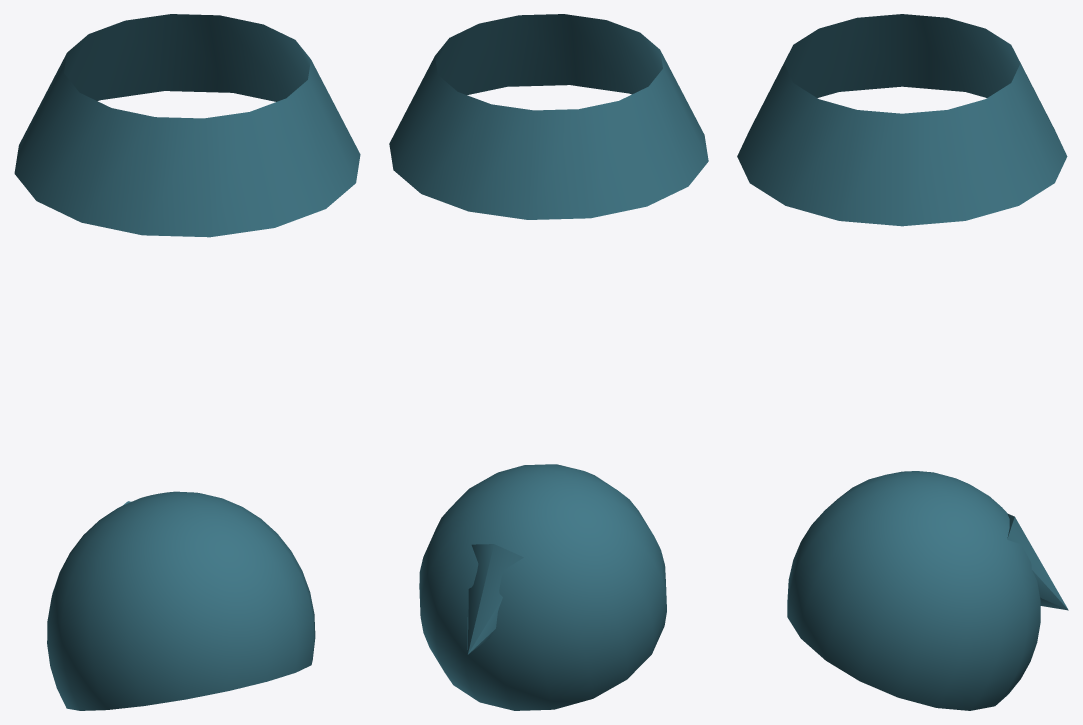
File: armor_look1.glb
3 views of the same model, side by side, from view 1: azimuth 30°, elevation 25°; view 2: azimuth 150°, elevation 25°; view 3: azimuth 270°, elevation 25° (orthographic). The views are drawn at different scales.
Parts seen in each view (by area): view 1: m0_ow85_, m1_ow85_; view 2: m0_ow85_, m1_ow85_, m2_ow85_; view 3: m0_ow85_, m1_ow85_, m2_ow85_.
Boxes of the visible parts, box(x1,y1,x2,y2) form: m0_ow85_: box(14, 14, 360, 237); m1_ow85_: box(47, 491, 315, 710); m0_ow85_: box(389, 14, 708, 219); m1_ow85_: box(419, 464, 666, 710); m2_ow85_: box(467, 544, 523, 654); m0_ow85_: box(737, 14, 1067, 226); m1_ow85_: box(787, 471, 1040, 710); m2_ow85_: box(1007, 513, 1068, 610).
Bounding box in the file's own units: 0.84 × 1.74 × 0.8437.
